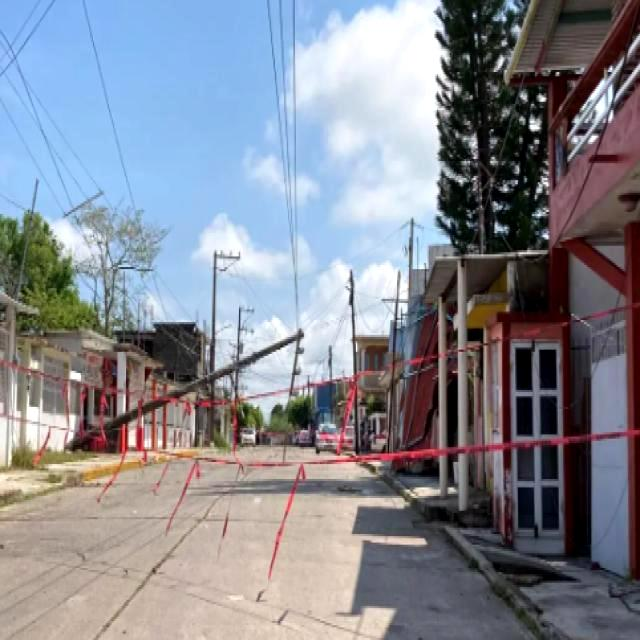Broken Pole: (66, 329, 305, 451)
